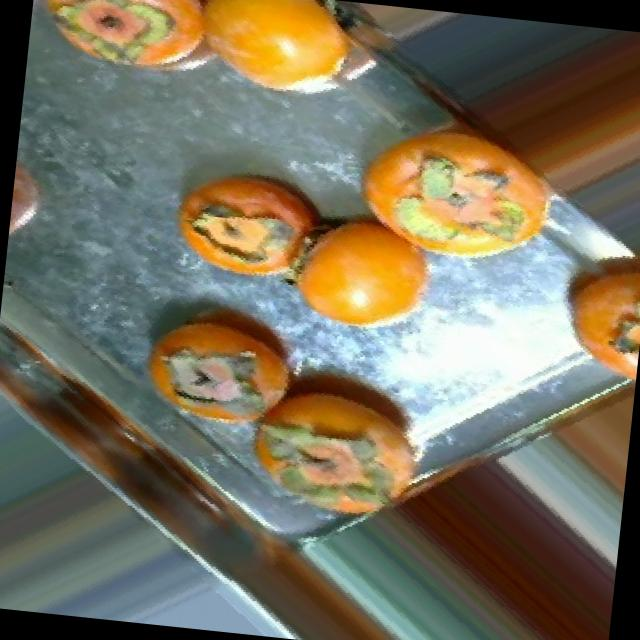Fruit: (268, 190, 461, 356), (151, 146, 346, 284), (536, 224, 640, 389), (4, 122, 63, 274)
